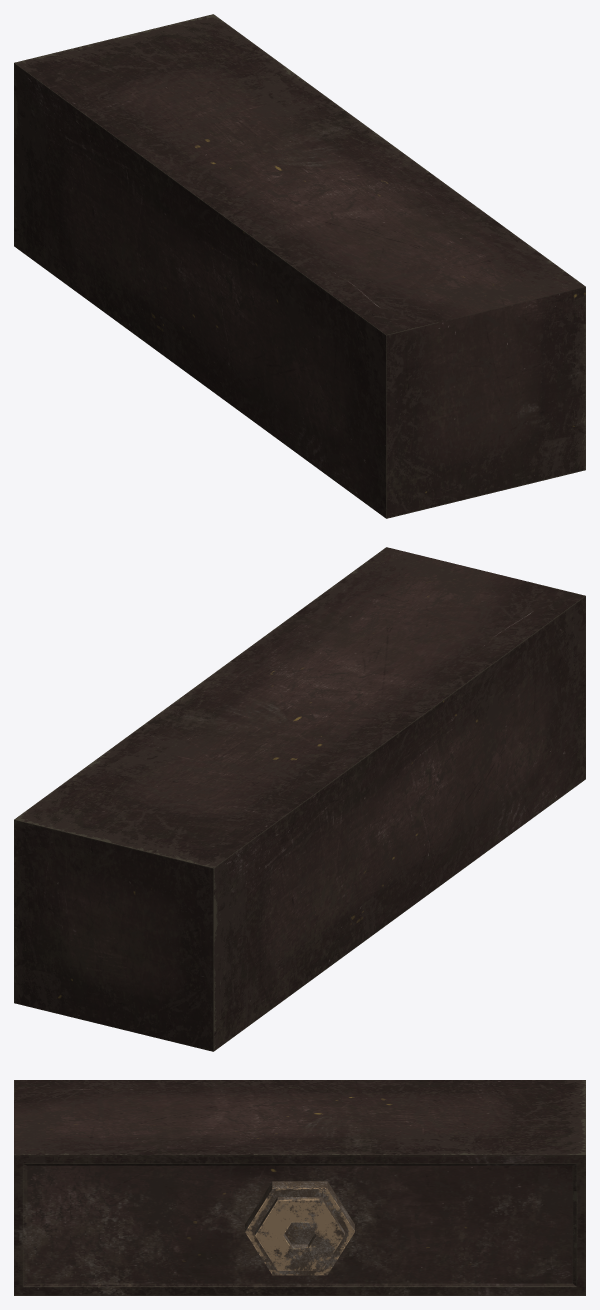
Rendered from platform3.fbx.
The picture shows the model from 3 angles, top to bottom: view 1: azimuth 30°, elevation 25°; view 2: azimuth 150°, elevation 25°; view 3: azimuth 270°, elevation 25°; orthographic projection. The views are drawn at different scales.
Parts seen in each view (by area): view 1: platform3.004; view 2: platform3.004; view 3: platform3.004.
Part boxes in pixels (left/top/right/bottom): platform3.004: left=14, top=14, right=585, bottom=518; platform3.004: left=14, top=547, right=585, bottom=1051; platform3.004: left=14, top=1080, right=585, bottom=1295.
Size of the model in its own units: 17.6 by 13.6 by 50.04.
